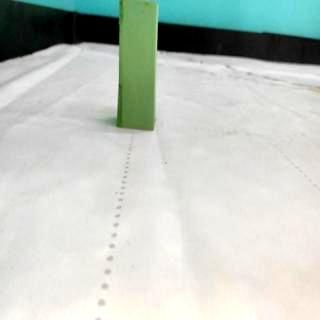greenbox: (119, 0, 156, 130)
